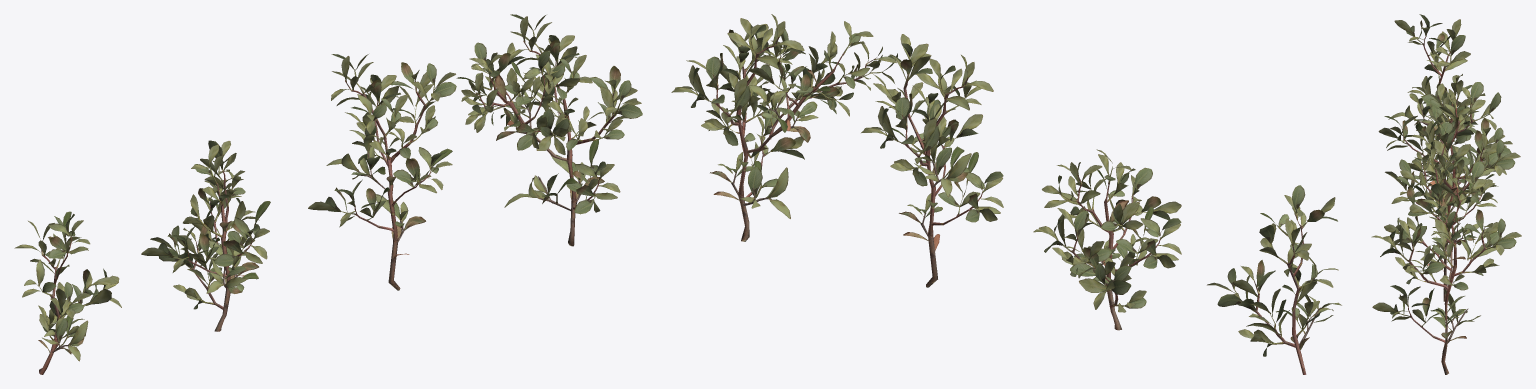
The model's file is shrub_04.glb.
The picture shows the model from 3 angles, left to right: view 1: azimuth 30°, elevation 25°; view 2: azimuth 150°, elevation 25°; view 3: azimuth 270°, elevation 25°; orthographic projection. The views are drawn at different scales.
Visible parts, largest first — view 1: shrub_04; view 2: shrub_04; view 3: shrub_04.
Part boxes in pixels (left/top/right/bottom): shrub_04: left=14, top=14, right=642, bottom=374; shrub_04: left=671, top=14, right=1341, bottom=374; shrub_04: left=1371, top=14, right=1521, bottom=374.
Bounding box in the file's own units: 0.5837 × 0.2192 × 0.146.
1 material, 1 textured.
